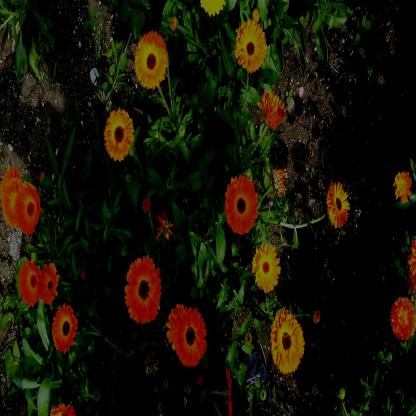marigold: (125, 258, 161, 322), (270, 310, 305, 372), (170, 307, 206, 365), (225, 175, 257, 229), (136, 31, 166, 84), (105, 109, 133, 159), (236, 23, 266, 69), (253, 245, 280, 289), (15, 188, 41, 230), (52, 308, 76, 351), (326, 181, 348, 226), (2, 174, 22, 223), (393, 296, 415, 340), (20, 264, 40, 302), (40, 263, 57, 301), (394, 170, 410, 202)
